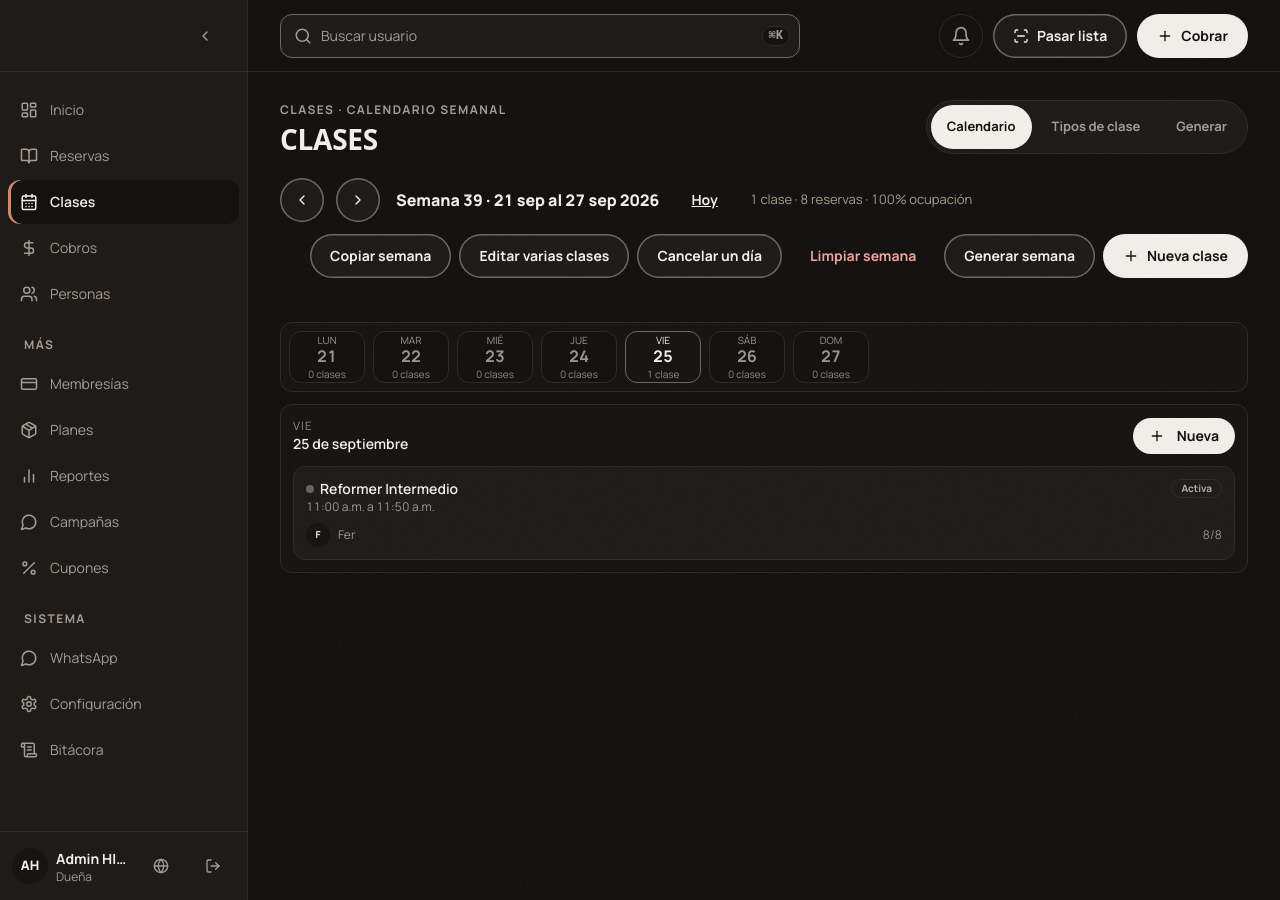
Scenario: Clases · Calendario › Limpiar semana: con reservas pide motivo, cancela esas clases y avisa a quién no le llegó
The width and height of the screenshot is (1280, 900).
Click the button "Limpiar semana" at (863, 256), box [790,234,936,278]
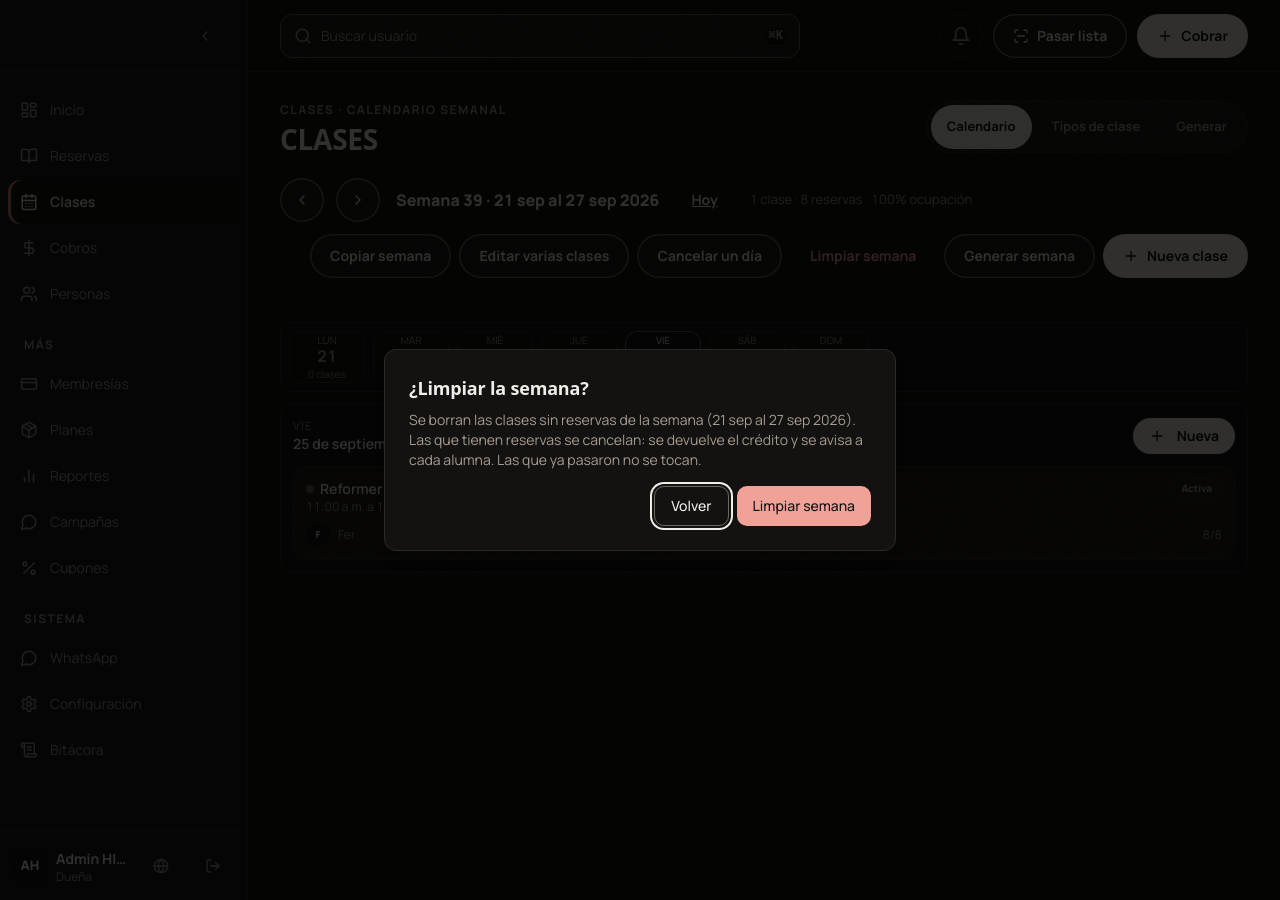
Expected: the text "Las que ya pasaron no se tocan" is shown, [409,410,863,469]
Click the button "Limpiar semana" at (804, 506), box [736,486,871,526]
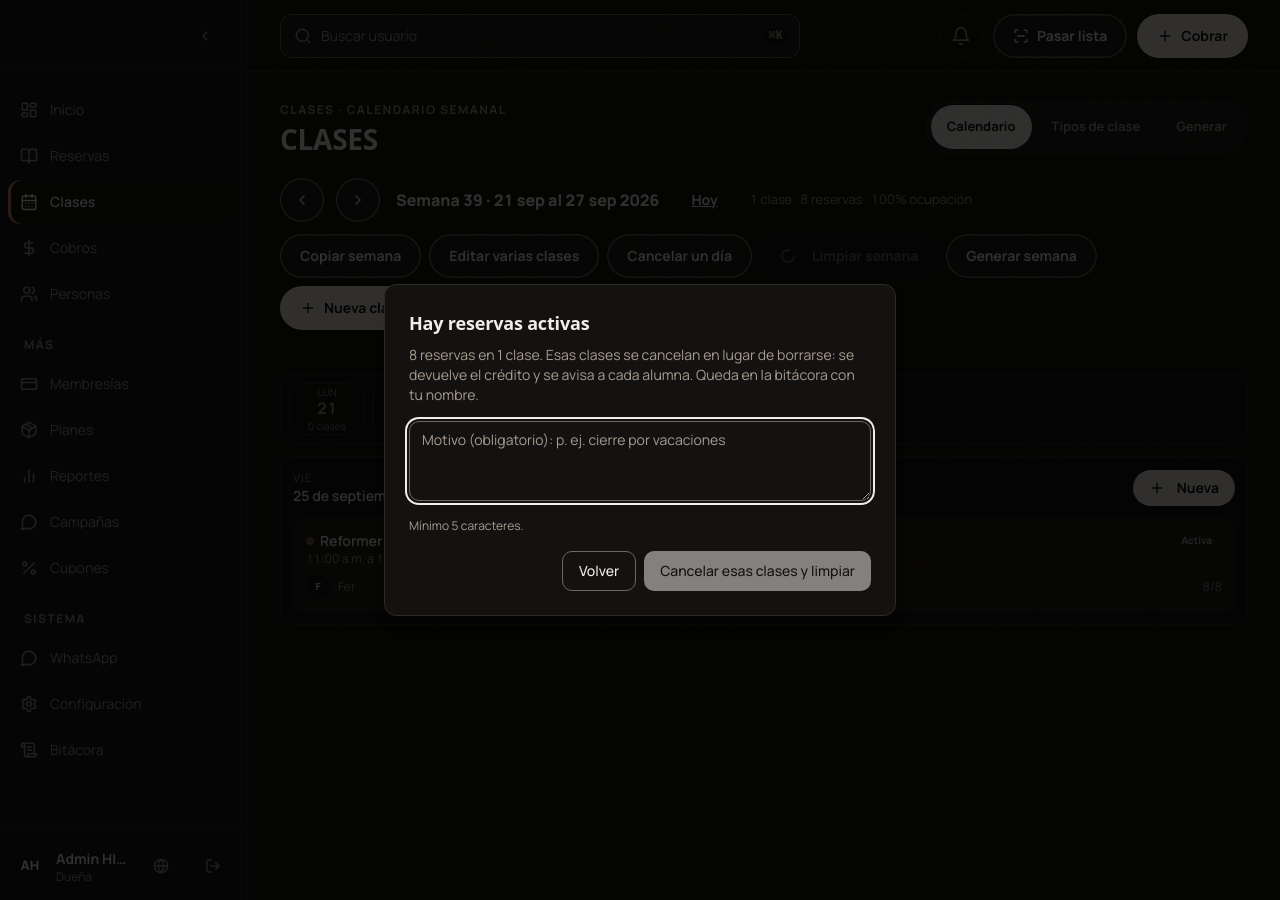
Expected: the button "Cancelar esas clases y limpiar" is disabled, [644,551,871,591]
Type "Cierre por vacaciones" into the text box at (640, 461), box [409,421,871,501]
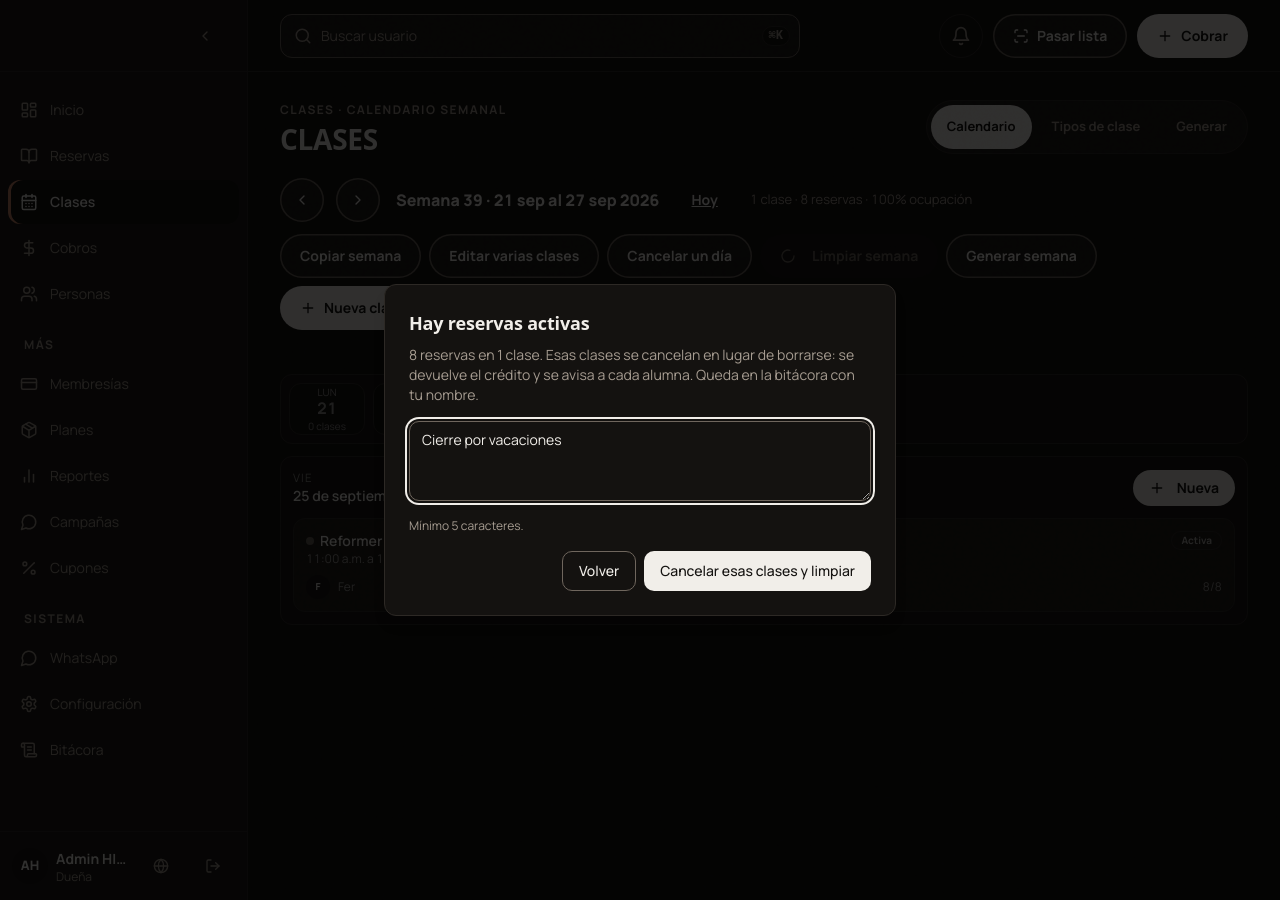
Click the button "Cancelar esas clases y limpiar" at (758, 571), box [644,551,871,591]
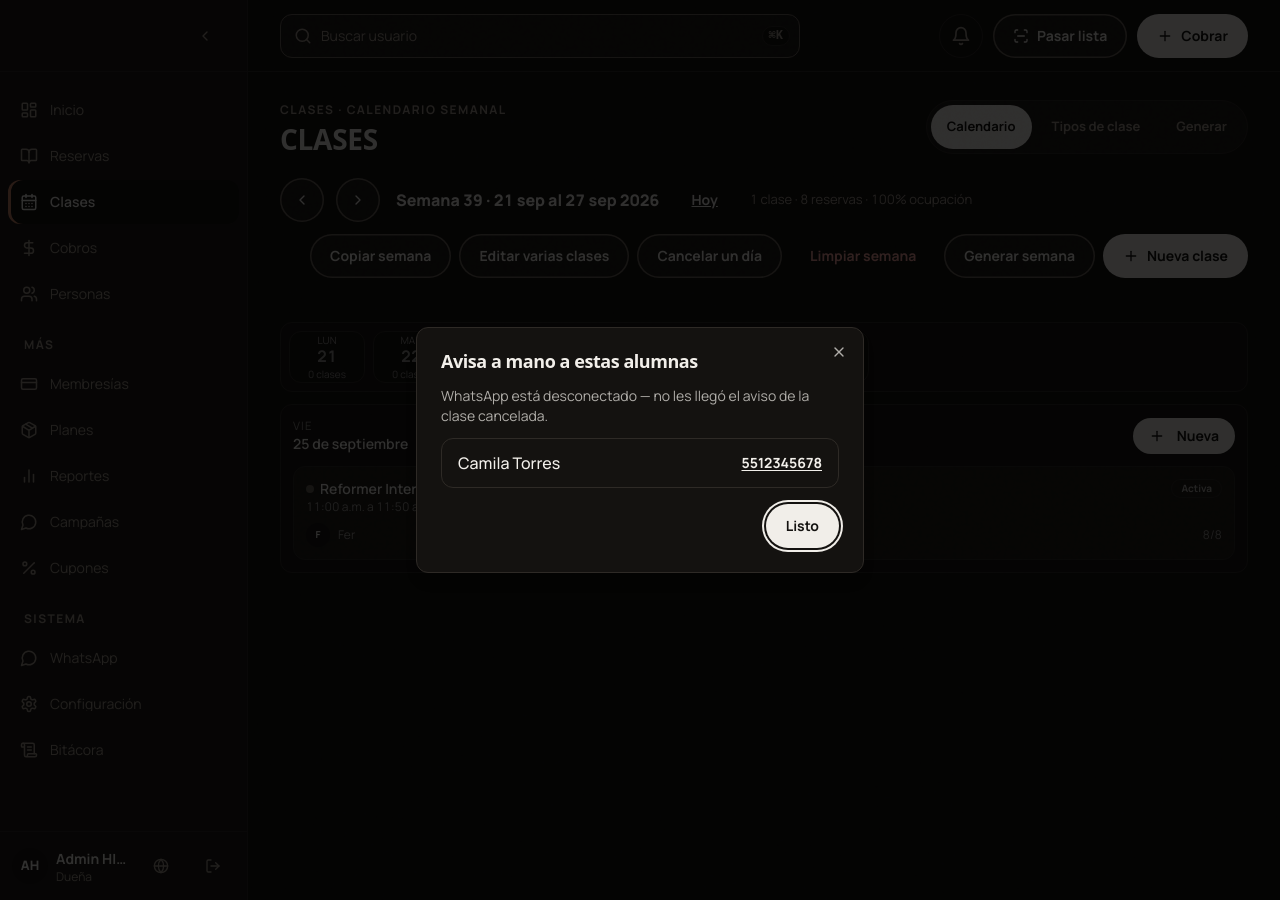
Expected: the heading "Avisa a mano a estas alumnas" is shown, [441,349,698,373]
